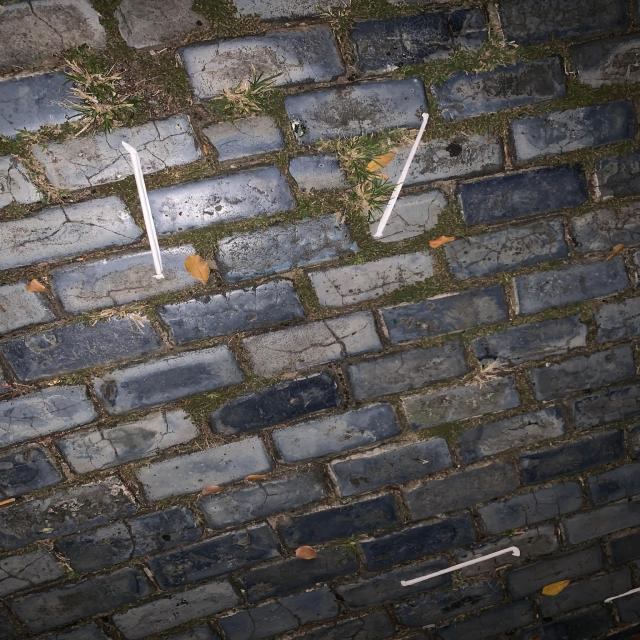litter: (374, 112, 430, 237), (122, 141, 164, 280), (400, 546, 522, 587)
